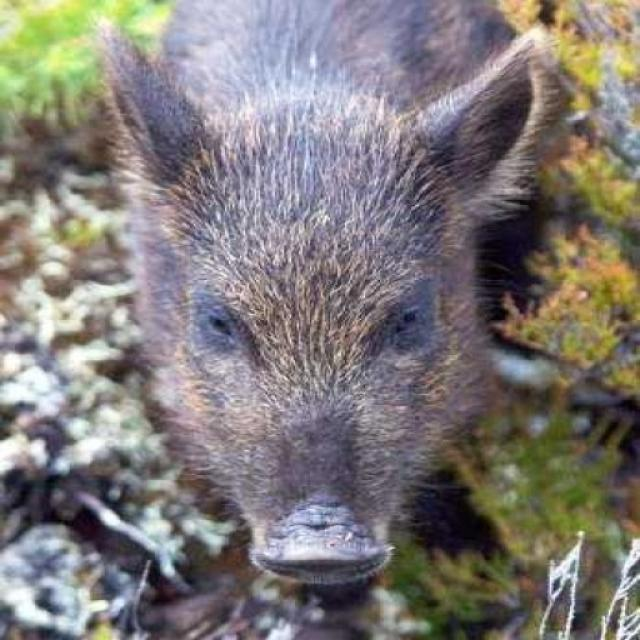pig: (80, 0, 569, 609)
